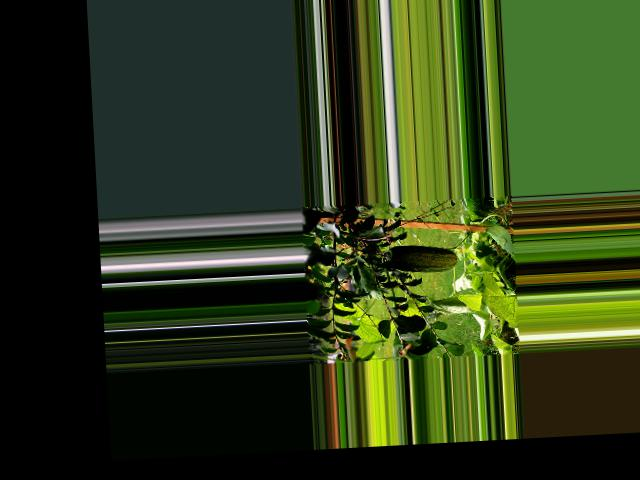cucumber: (381, 241, 458, 274)
